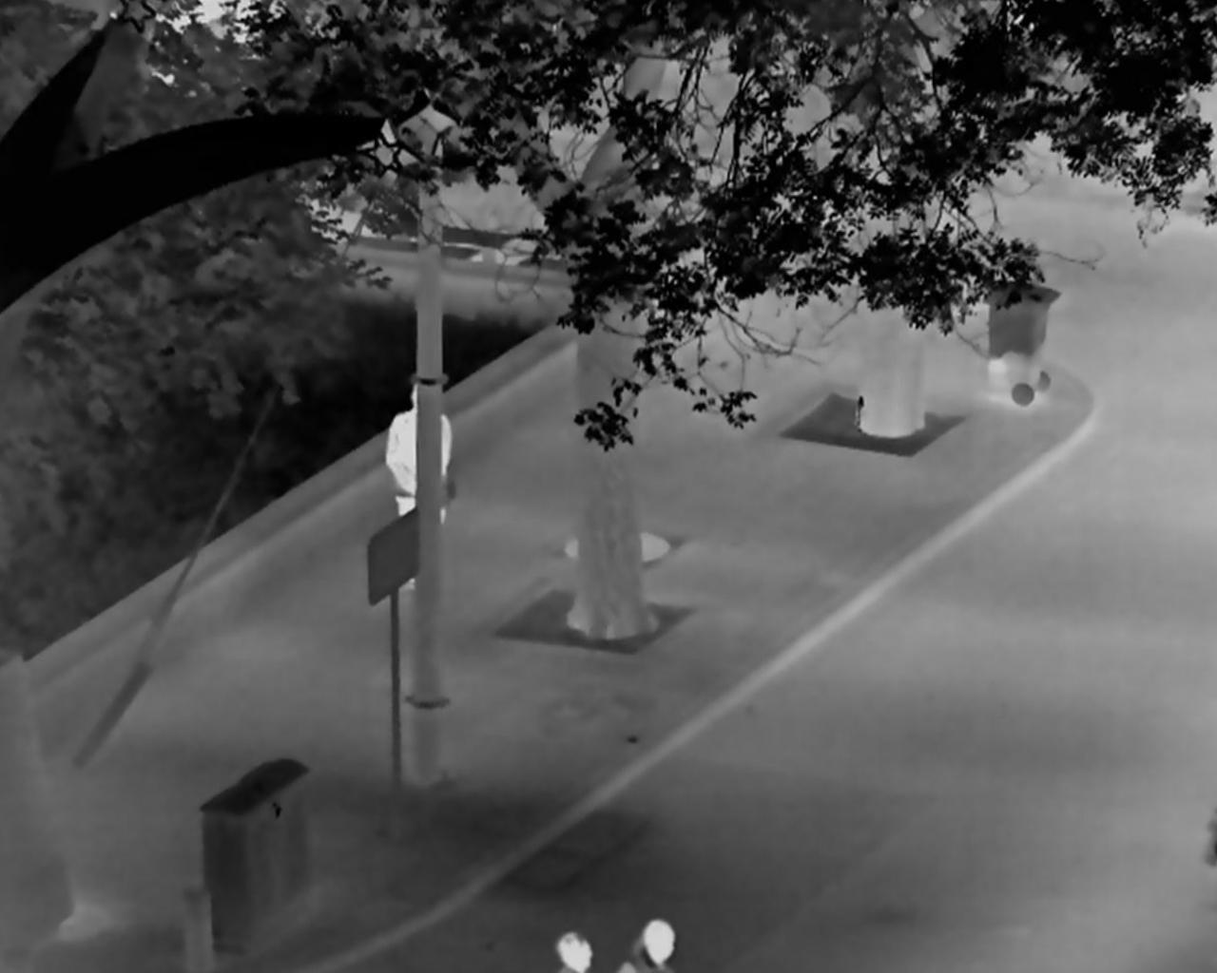person: (384, 382, 454, 588), (616, 919, 680, 973), (554, 931, 596, 973)
